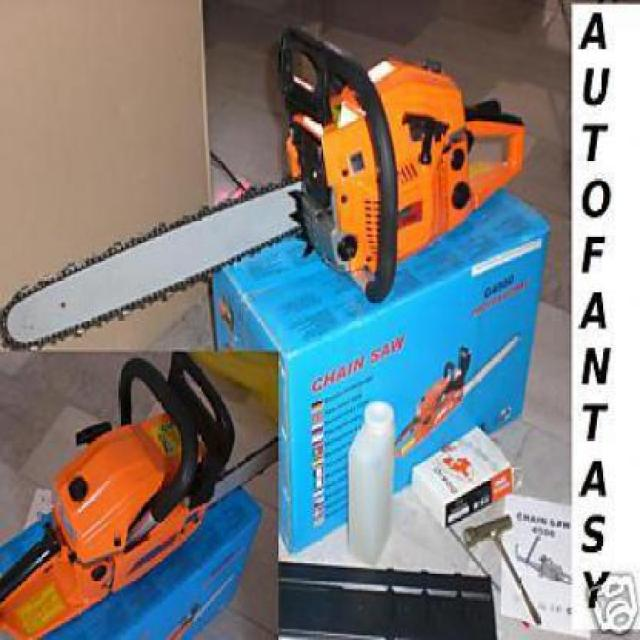Chainsaw: (0, 25, 540, 340), (0, 352, 275, 639)
